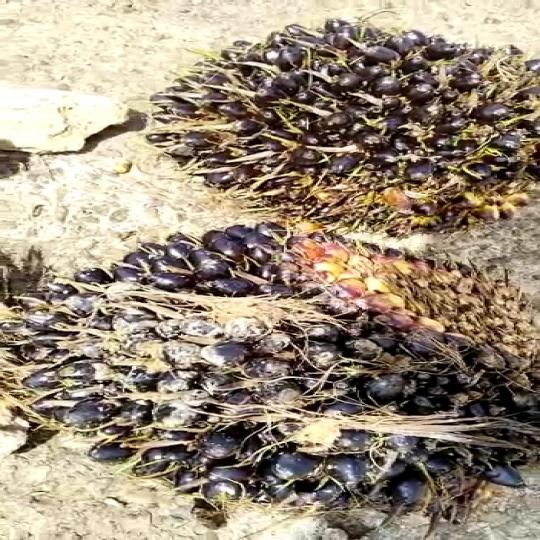mentah: (0, 218, 540, 532), (139, 16, 540, 232)
